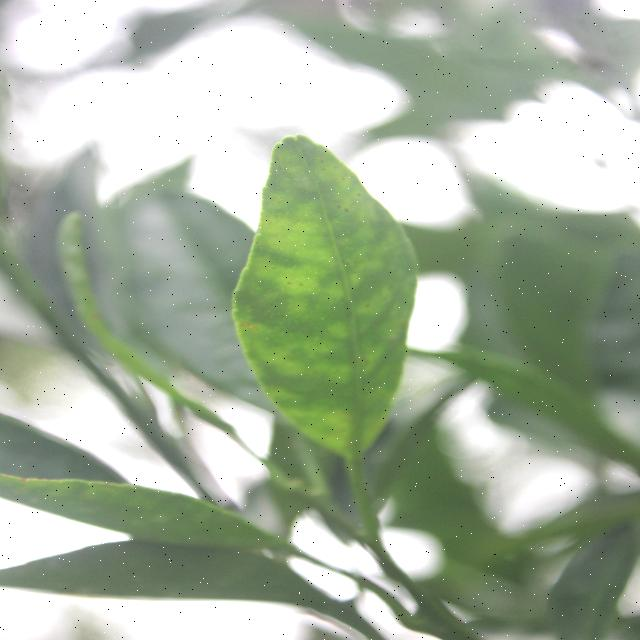canker: (247, 146, 404, 435)
